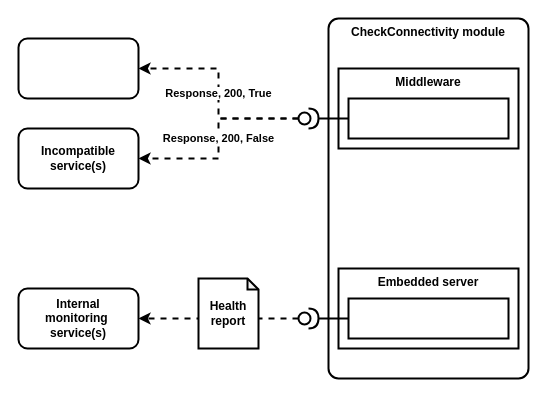
Image size: 546x396. Some labels were removed from this diagram. Here are the shapes that lost their labels. From the top down, the centre of each, then its label:
(78,68): Compatible service(s)
(428,118): GET /checkCompatability
(428,318): GET /health
